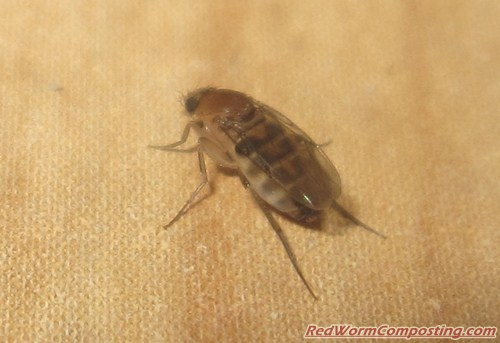phorid fly: (139, 70, 398, 313)
